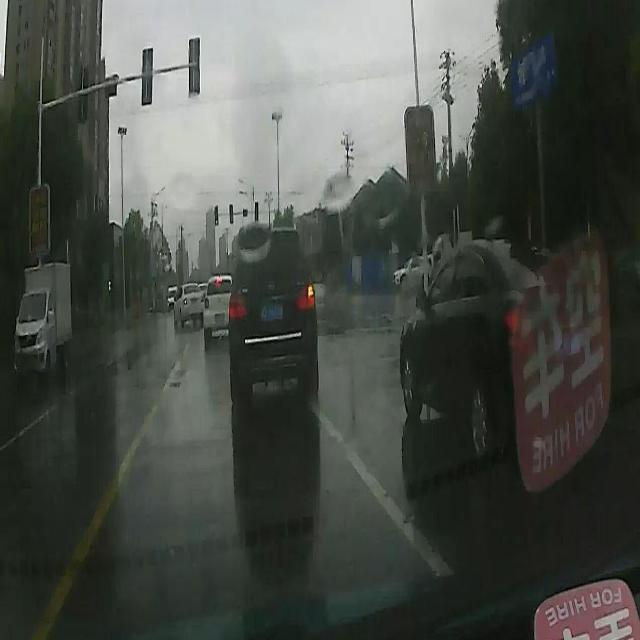car: (398, 256, 574, 455), (226, 221, 318, 399), (13, 260, 71, 376), (202, 278, 235, 344), (171, 284, 203, 326)
